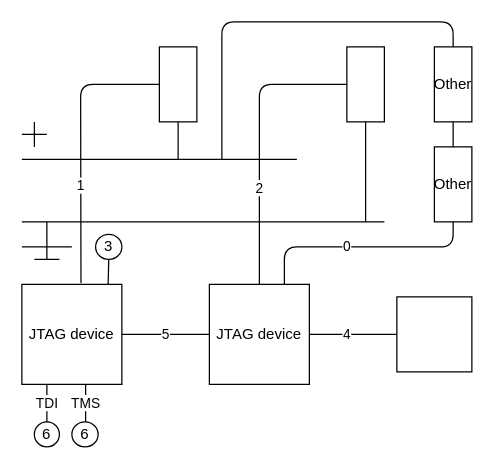
Image size: 494x469. Some labels were removed from this diagram. Here are the shapes that lost their labels. From the top down, the centre of each, then its label:
(x=177, y=84): Pull up
(x=365, y=84): Pull down
(x=434, y=334): IC
